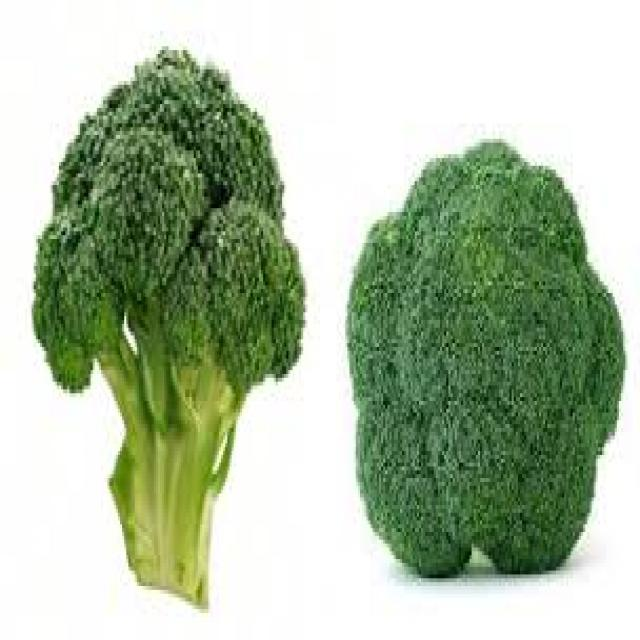organic waste: (25, 31, 301, 609), (345, 131, 623, 571)
